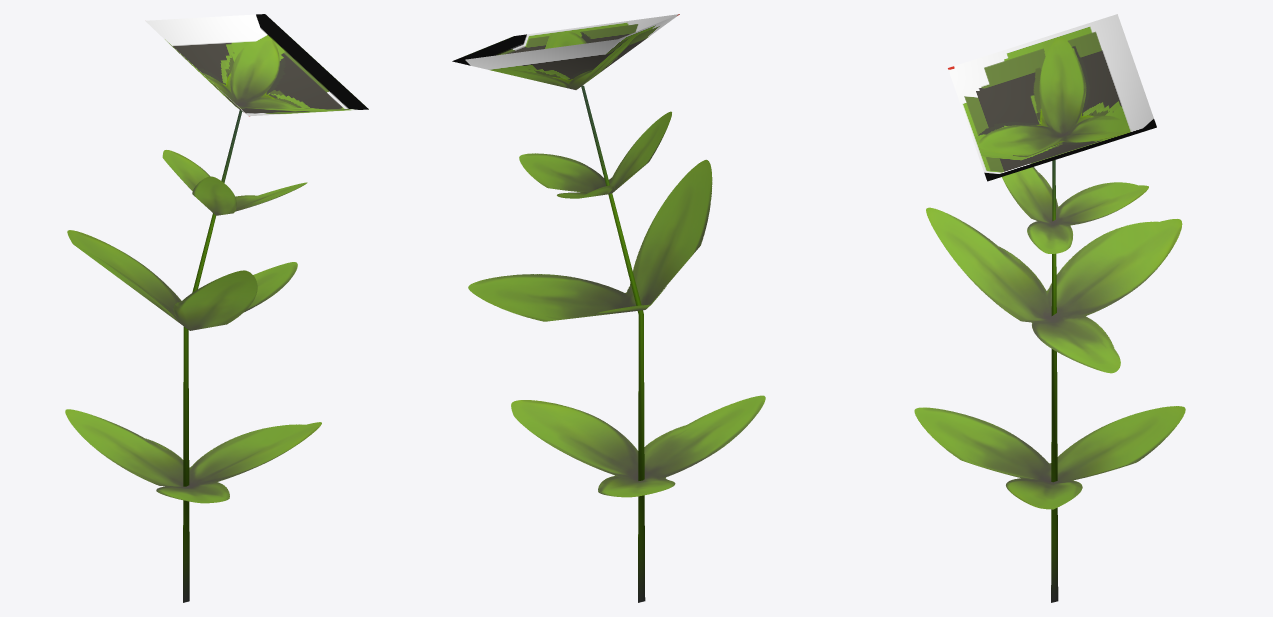
Rendered from LeafyPlant.fbx.
3 renders of one model, left to right at view 1: azimuth 30°, elevation 25°; view 2: azimuth 150°, elevation 25°; view 3: azimuth 270°, elevation 25°, orthographic. The views are drawn at different scales.
Parts seen in each view (by area): view 1: Plane.004, Plane, Plane.001, Plane.002, Cylinder; view 2: Plane.001, Plane, Plane.004, Plane.002, Cylinder; view 3: Plane.004, Plane.001, Plane, Plane.002, Cylinder.
Boxes of the visible parts, x1,y1,x2,y2 form: Plane.004: (145,14,368,116); Plane: (65,409,321,503); Plane.001: (67,230,297,330); Plane.002: (162,150,307,215); Cylinder: (183,110,242,602); Plane.001: (468,159,712,321); Plane: (511,395,765,497); Plane.004: (452,14,679,89); Plane.002: (519,111,671,198); Cylinder: (581,85,645,602); Plane.004: (948,14,1156,181); Plane.001: (926,207,1182,373); Plane: (914,406,1185,509); Plane.002: (1002,167,1148,253); Cylinder: (1051,160,1058,602).
Bounding box in the file's own units: 74.28 × 116 × 74.28.
